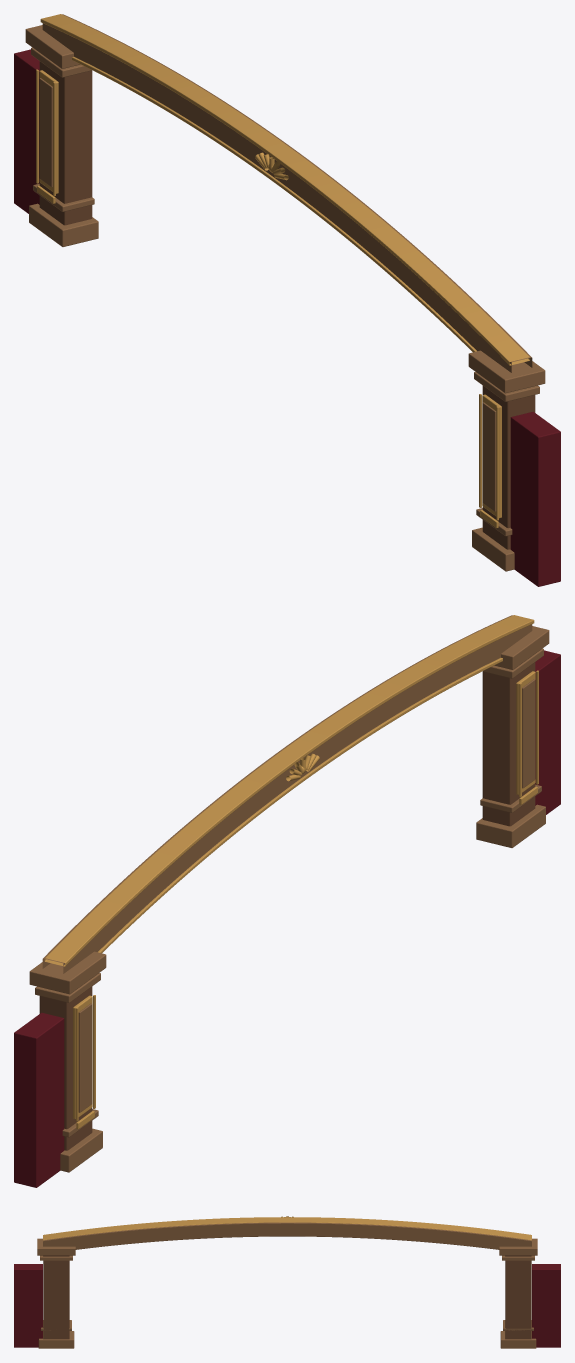
The model's file is SM_CP_TheatrePortal.fbx.
3 renders of one model, top to bottom at view 1: azimuth 30°, elevation 25°; view 2: azimuth 150°, elevation 25°; view 3: azimuth 270°, elevation 25°, orthographic. The views are drawn at different scales.
Parts seen in each view (by area): view 1: SM_CP_TheatrePortal; view 2: SM_CP_TheatrePortal; view 3: SM_CP_TheatrePortal.
Part boxes in pixels (bbox=[...]): SM_CP_TheatrePortal: bbox=[14, 14, 560, 586]; SM_CP_TheatrePortal: bbox=[14, 615, 560, 1187]; SM_CP_TheatrePortal: bbox=[14, 1216, 560, 1348].
Size of what is drawn, in the model's own units: 118 by 2640 by 664.
